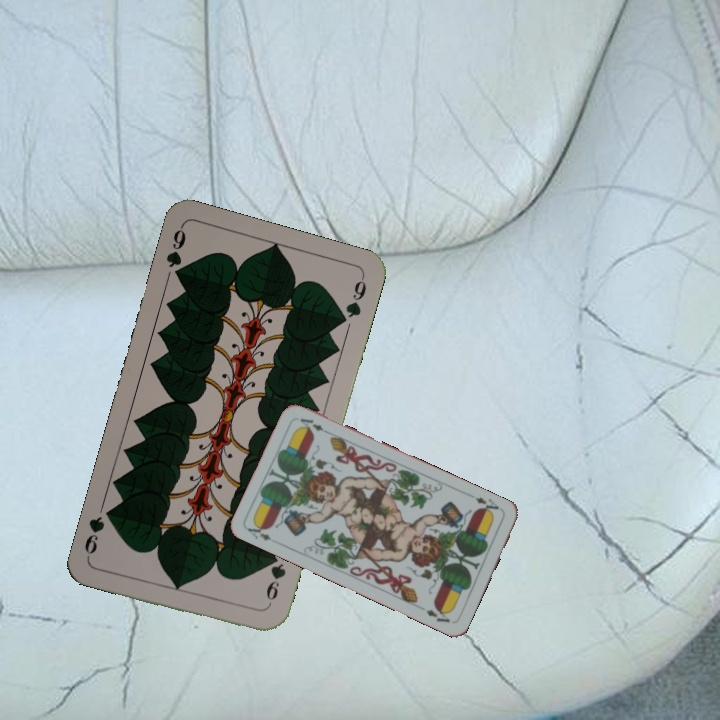EA: (471, 493, 502, 518), (243, 519, 274, 543)
G9: (162, 222, 189, 283), (262, 551, 289, 611)
